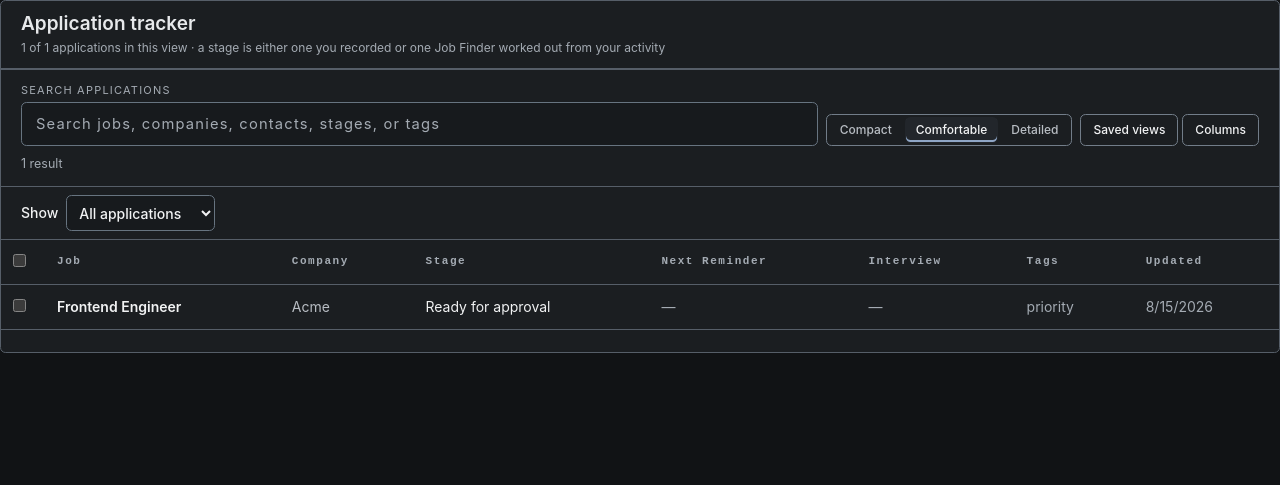
ApplicationsCrmViews › keeps a failed bulk update selected for an explicit retry
Click the checkbox named "Select Frontend Engineer at Acme".
click(20, 306)  # box [13, 299, 26, 312]
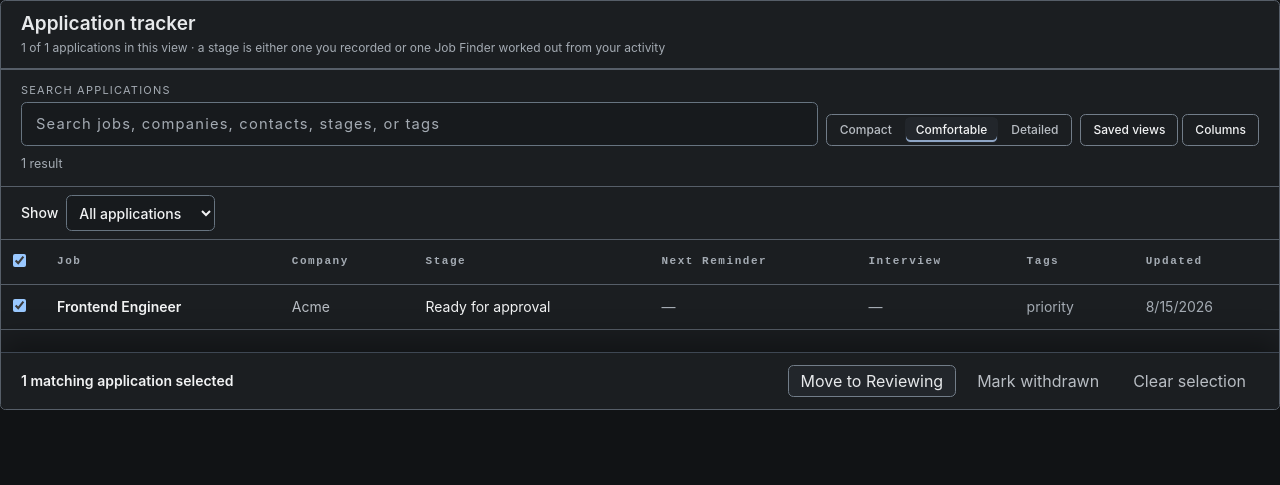
Click the button "Move to Reviewing".
click(872, 381)  # box [788, 365, 956, 397]
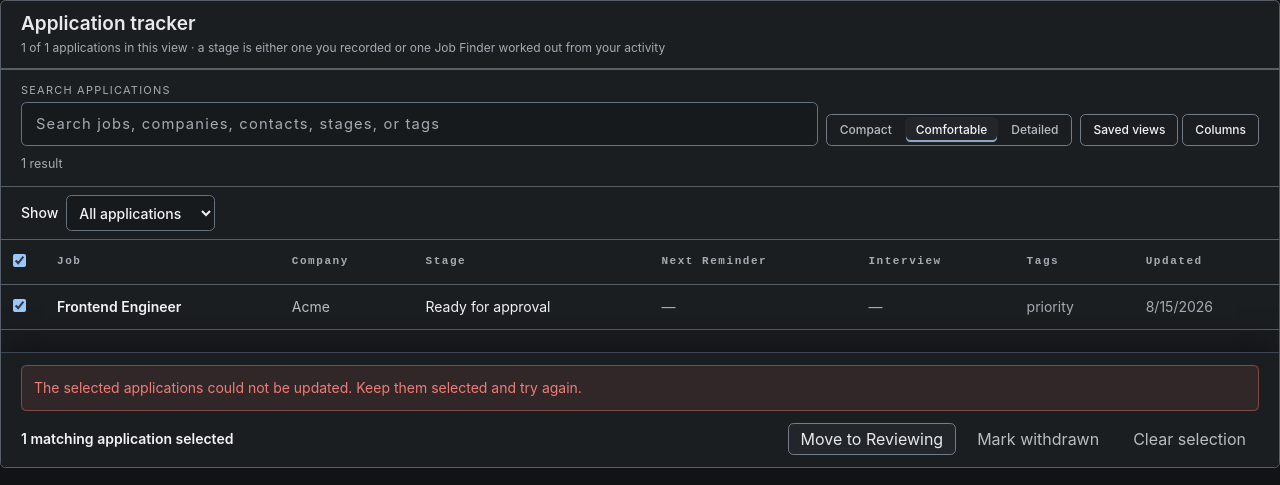
expect the text "1 matching application selected" is shown: met, box [21, 429, 233, 449]
expect the message shows "The selected applications could not be updated. Keep them selected and try again.": met, box [34, 379, 582, 396]
Click the button "Move to Reviewing".
click(872, 439)  # box [788, 423, 956, 455]
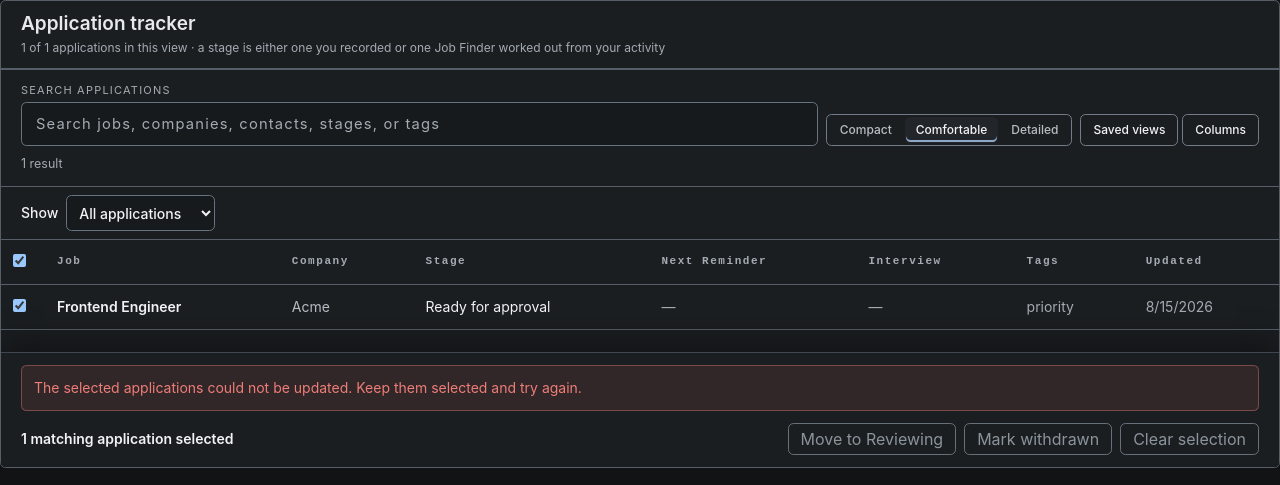
expect the button "Move to Reviewing" is disabled: met
Click the button "Move to Reviewing".
click(872, 439)  # box [788, 423, 956, 455]
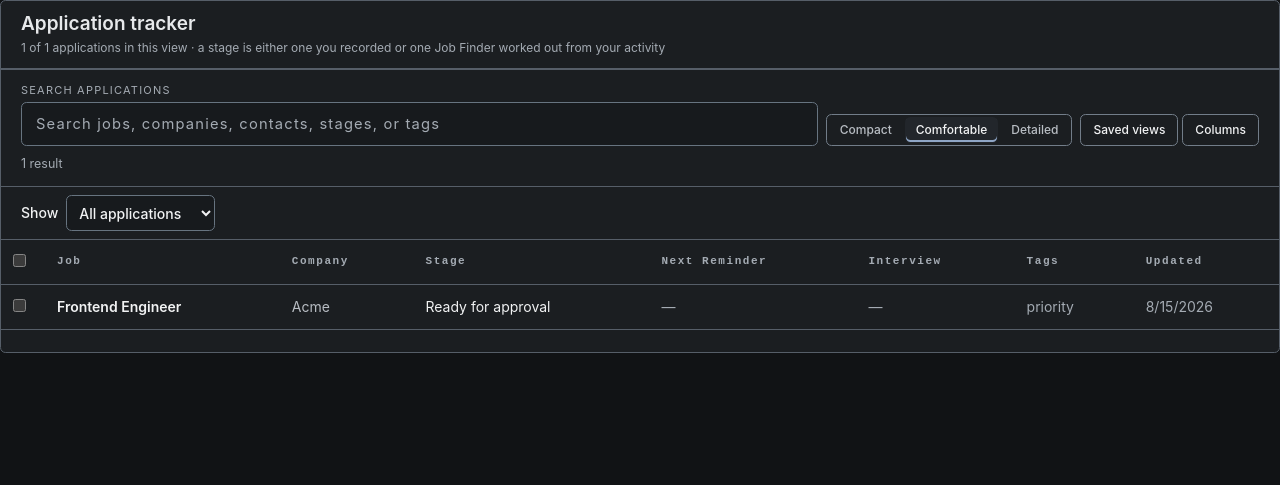
expect the message is gone: met
expect the text "matching application selected" is gone: met
